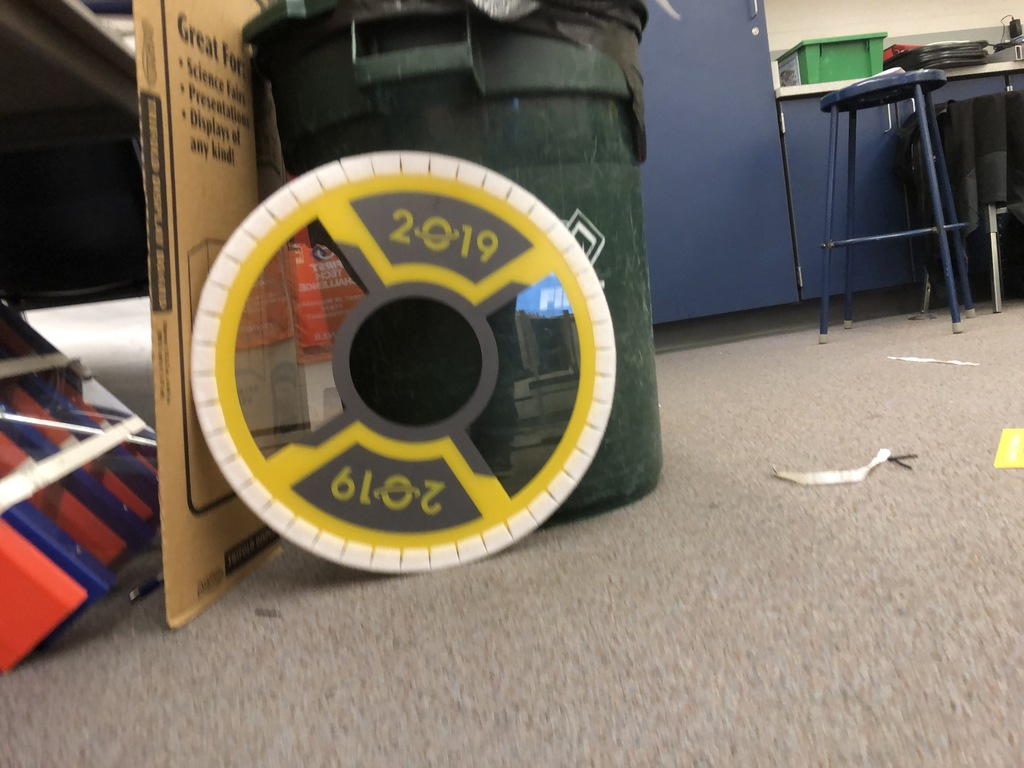hatch_panel: (173, 124, 626, 591)
